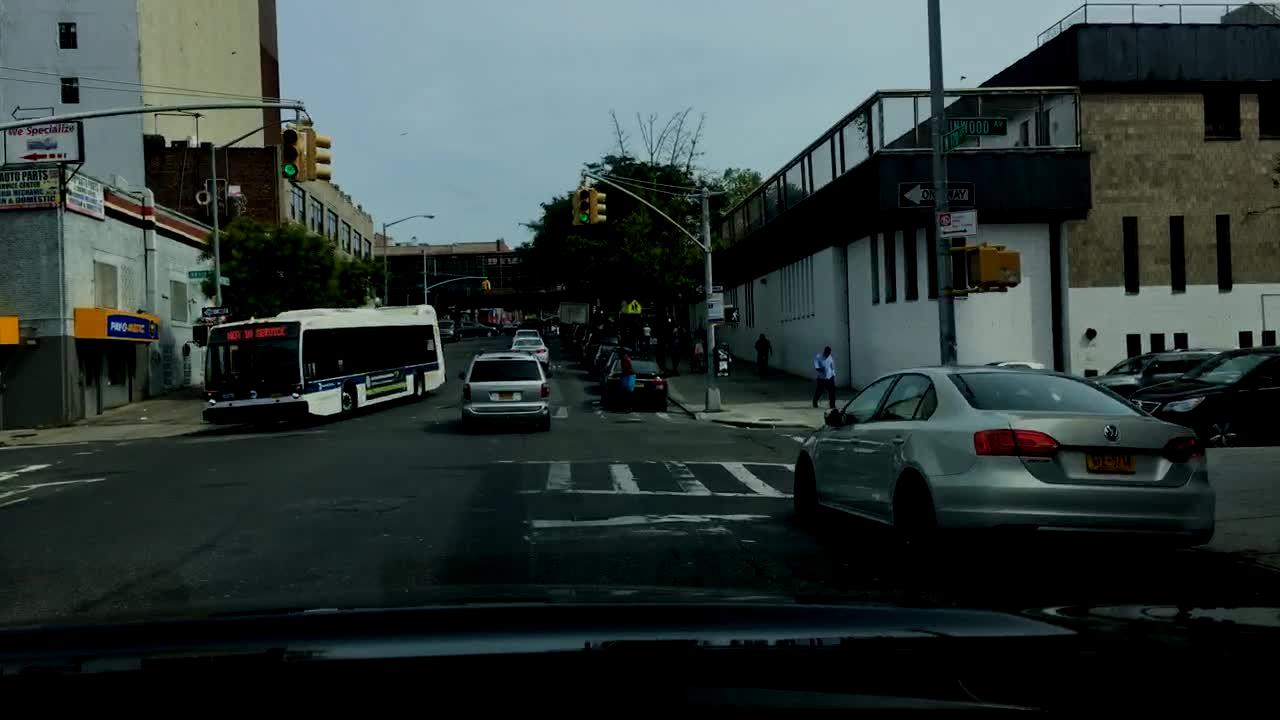Volkswagen: (1094, 422, 1129, 445)
